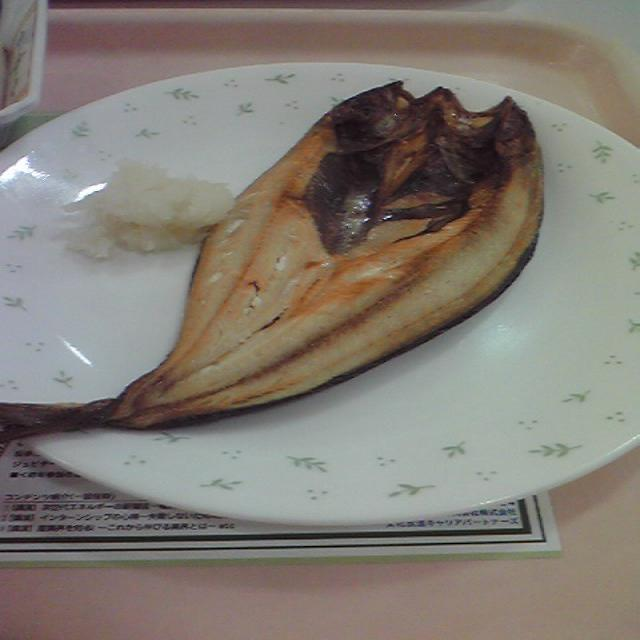熟制海鲜: (0, 76, 555, 480)
